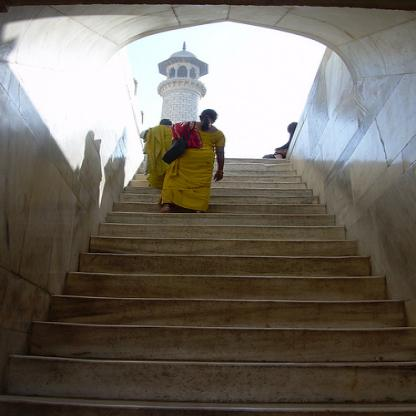stairs: (70, 247, 387, 413)
